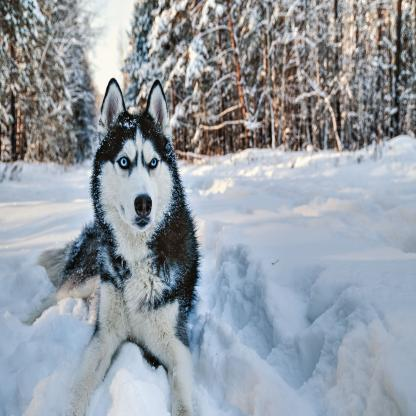dog: (33, 81, 198, 416)
